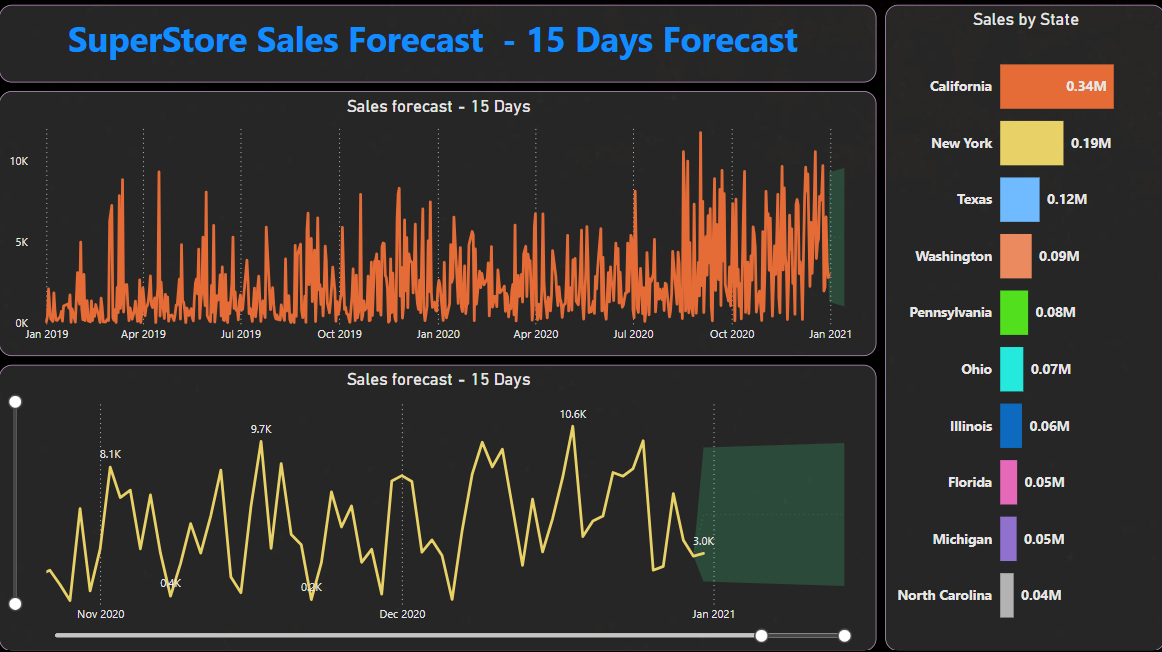

The page's visual inventory and layout, read from the dashboard file:
{"tool":"powerbi","page":{"name":"Page 2","canvas":[1280,720],"ordinal":1},"visuals":[{"type":"lineChart","title":"Sales forecast - 15 Days ","fields":{"Y":["Sum(SuperStore_Sales_Dataset.Sales)"],"Category":["SuperStore_Sales_Dataset.Order Date"]},"box":[10.8,102.6,948.1,286.3],"z":0},{"type":"lineChart","title":"Sales forecast - 15 Days","fields":{"Y":["Sum(SuperStore_Sales_Dataset.Sales)"],"Category":["SuperStore_Sales_Dataset.Order Date"]},"box":[10.8,398.4,948.1,309.3],"z":1000},{"type":"textbox","box":[10.8,9.5,948.1,83.7],"z":2000},{"type":"clusteredBarChart","title":" Sales by State","fields":{"Y":["Sum(SuperStore_Sales_Dataset.Sales)"],"Category":["SuperStore_Sales_Dataset.State"]},"box":[968.3,9.5,302.5,698.2],"z":3000}]}

Visuals, with their boxes in screenshot pixels (x1, y1, x2, y2), scaled from the page's 1280x720 canvas onto the 1162x652 screenshot:
"Sales forecast - 15 Days " lineChart: <box>10,93,871,352</box>
"Sales forecast - 15 Days" lineChart: <box>10,361,871,641</box>
textbox: <box>10,9,871,84</box>
" Sales by State" clusteredBarChart: <box>879,9,1154,641</box>
